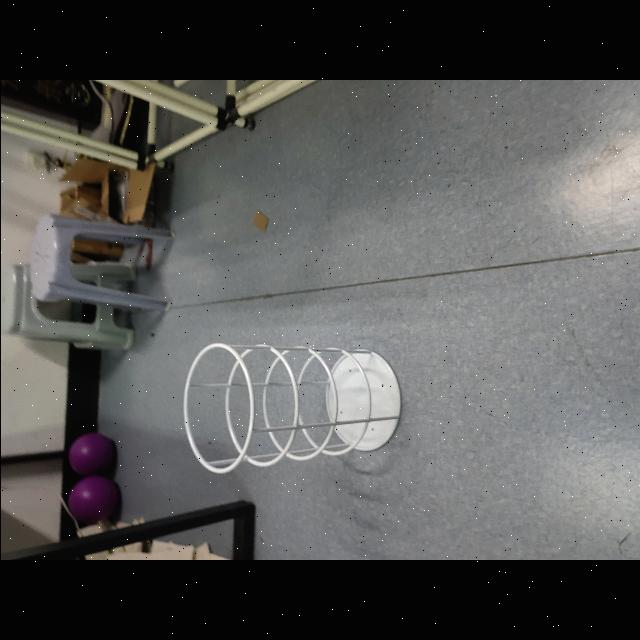S: (180, 333, 404, 477)
